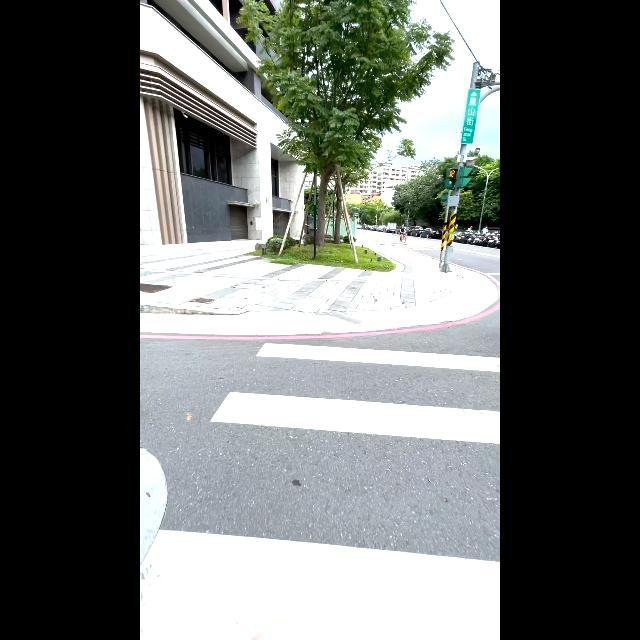sidewalk: (140, 321, 500, 640)
